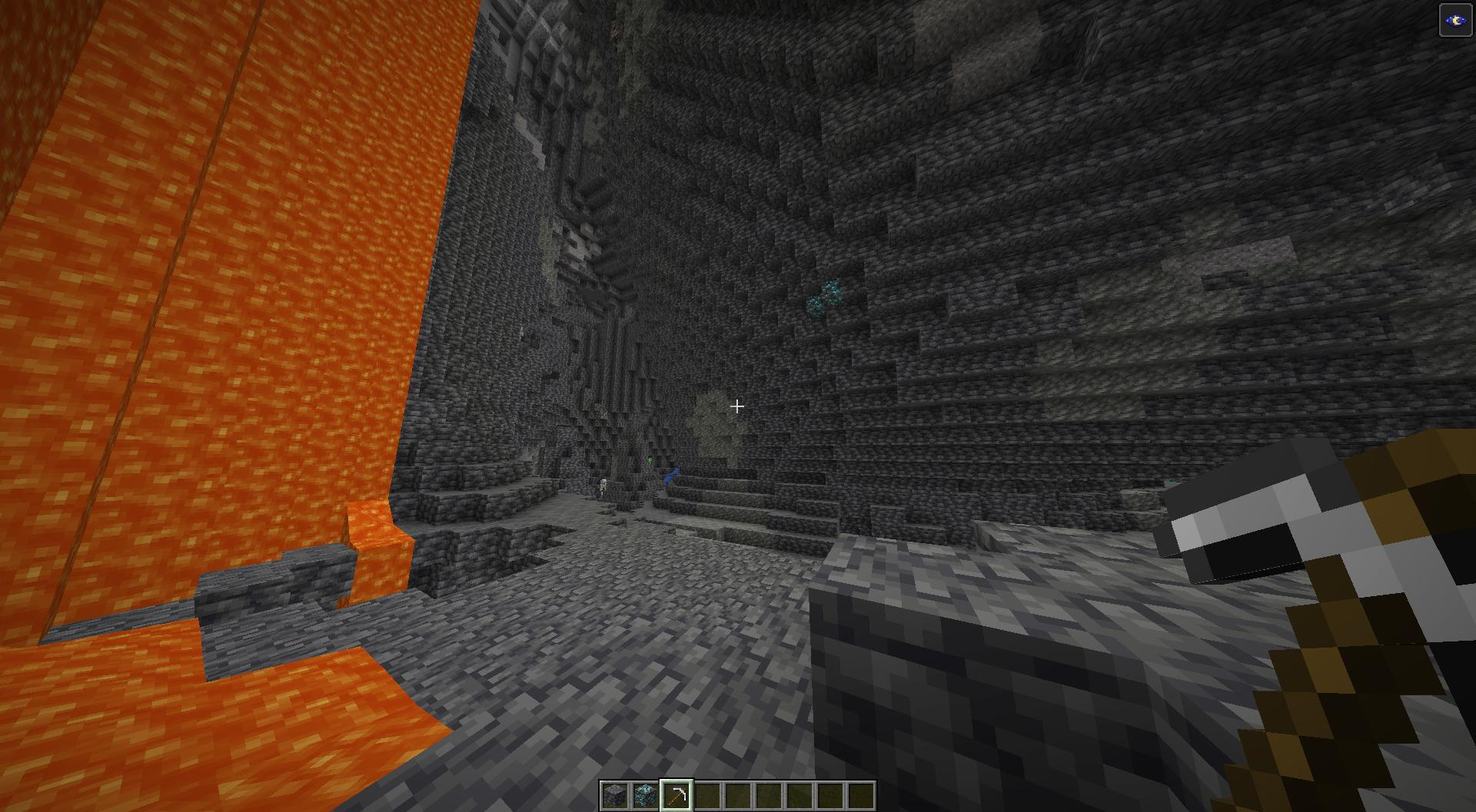diamond ore: (807, 294, 825, 314), (821, 278, 842, 294), (825, 294, 845, 308)
